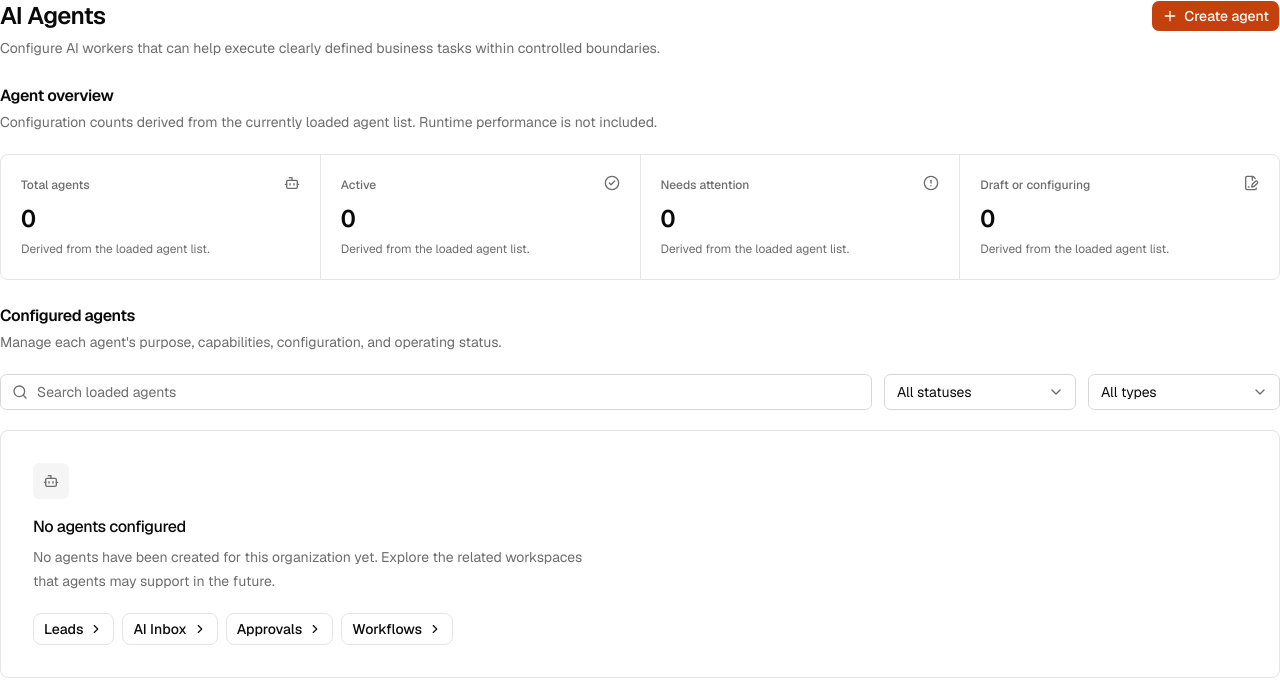
it: AI Agents page › shows creation errors without navigating
This screenshot has width=1280, height=690.
Expected: the heading "No agents configured" is shown, [33, 515, 186, 539]
Click the button "Create agent": (1216, 16) [1151, 0, 1279, 32]
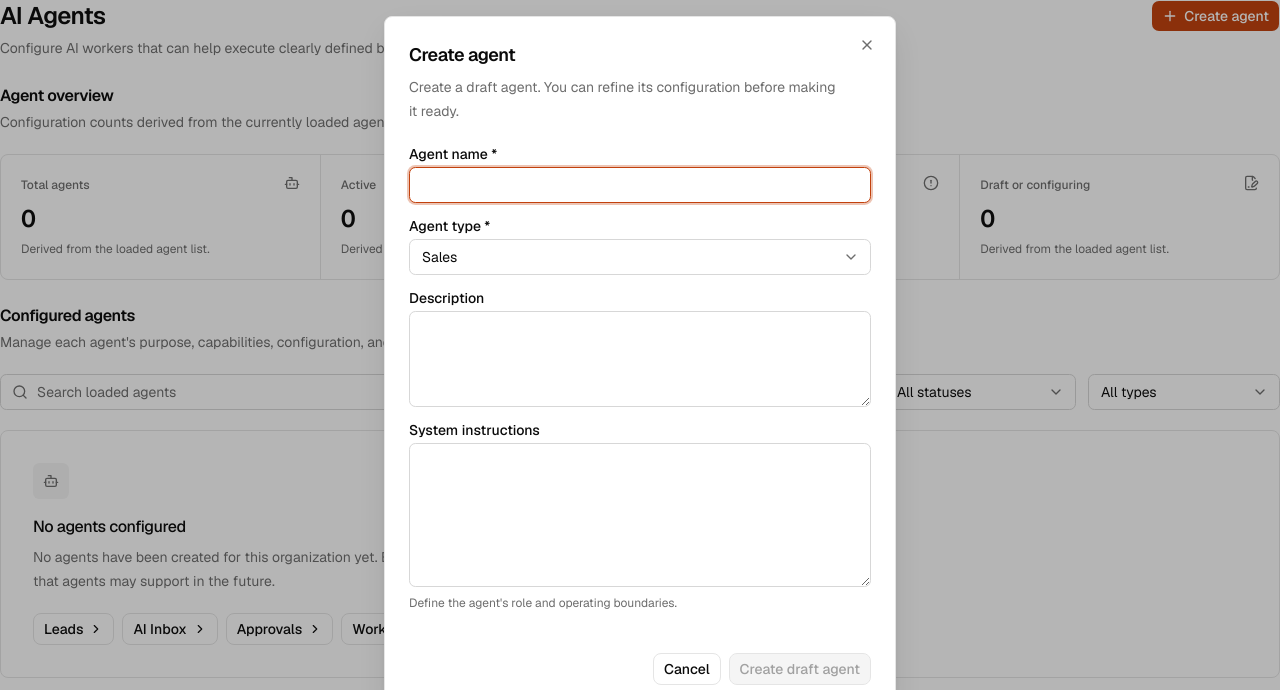
In the field labelled "Agent name *": (640, 185) [409, 167, 871, 203], type "New agent"
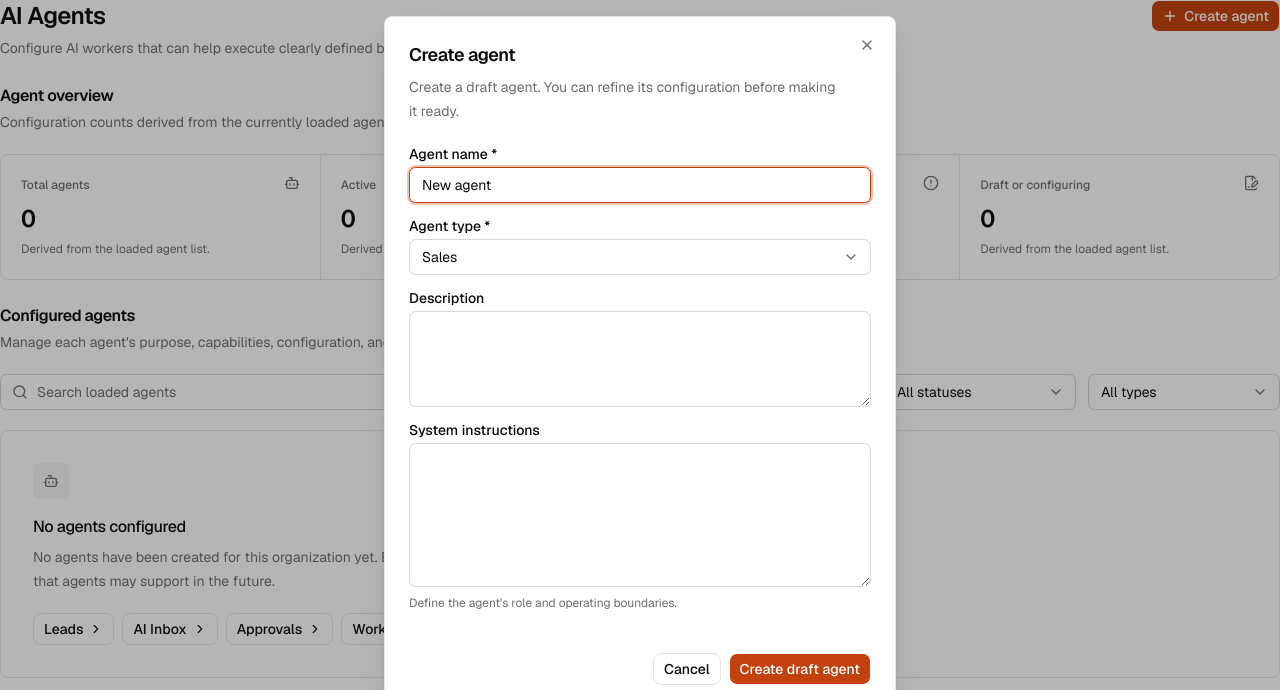
Click the button "Create draft agent": (800, 669) [729, 653, 871, 685]
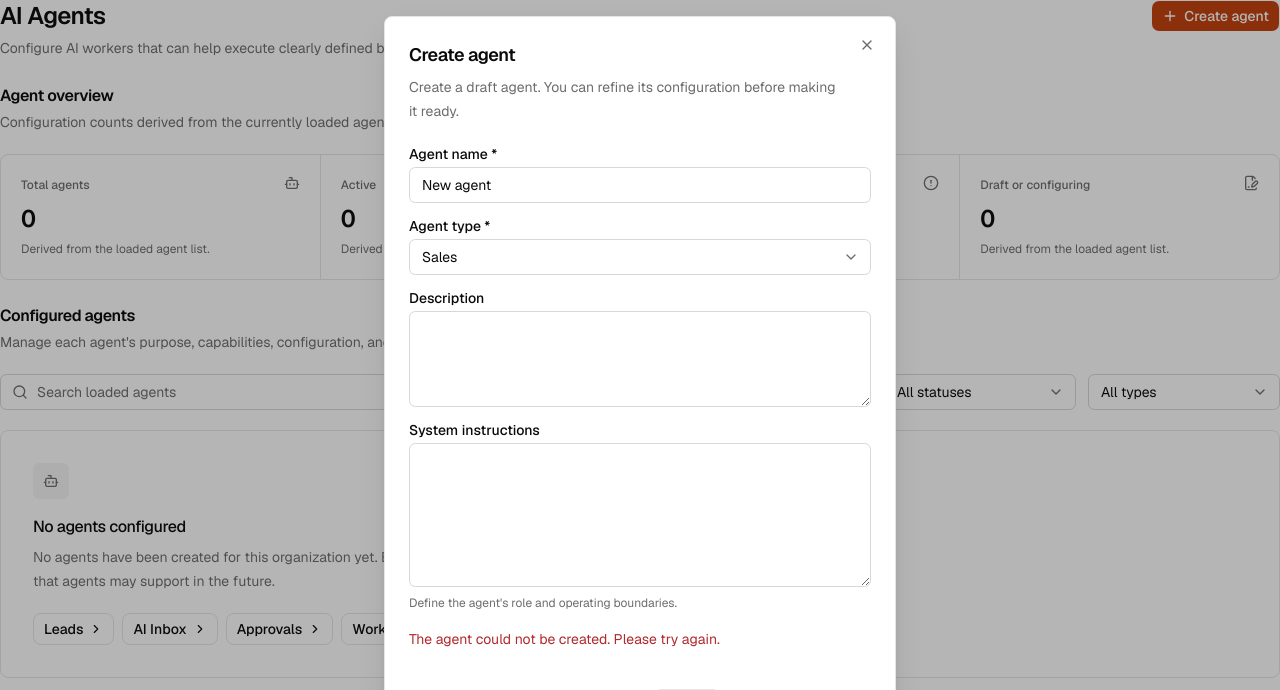
Expected: the message shows "The agent could not be created", [409, 630, 720, 648]
